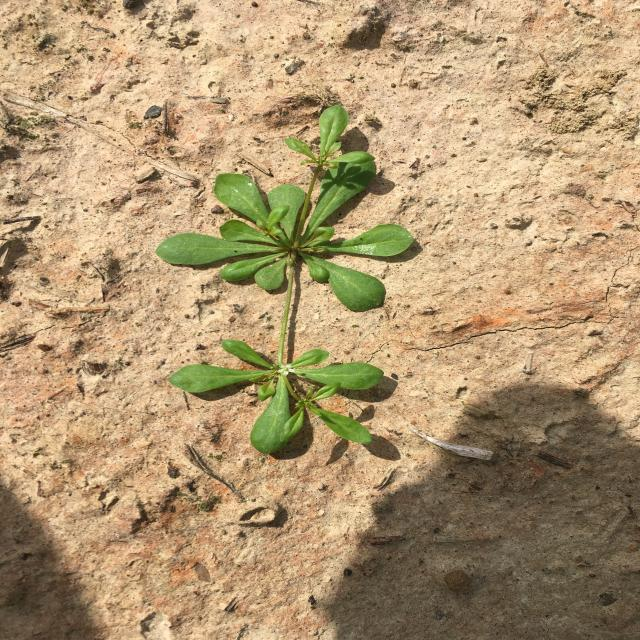Carpetweed: (155, 105, 415, 454)
